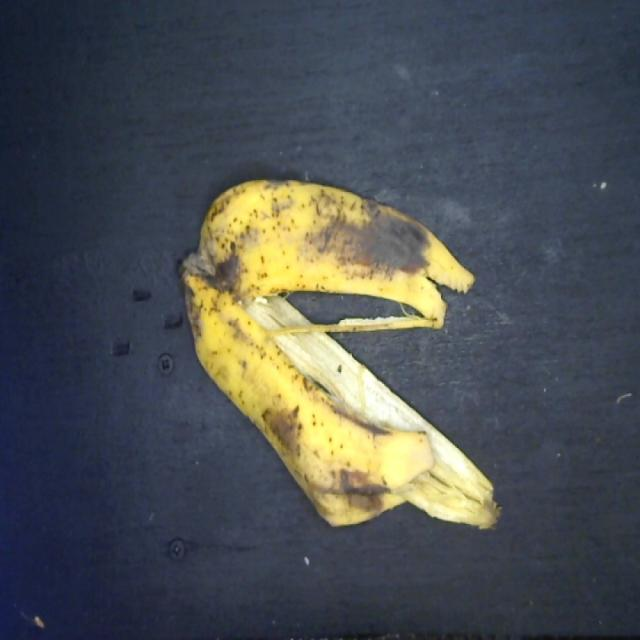biodegradable: (177, 174, 503, 537)
